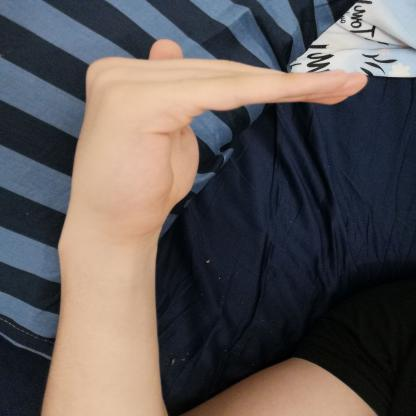KHAA: (49, 32, 383, 254)
